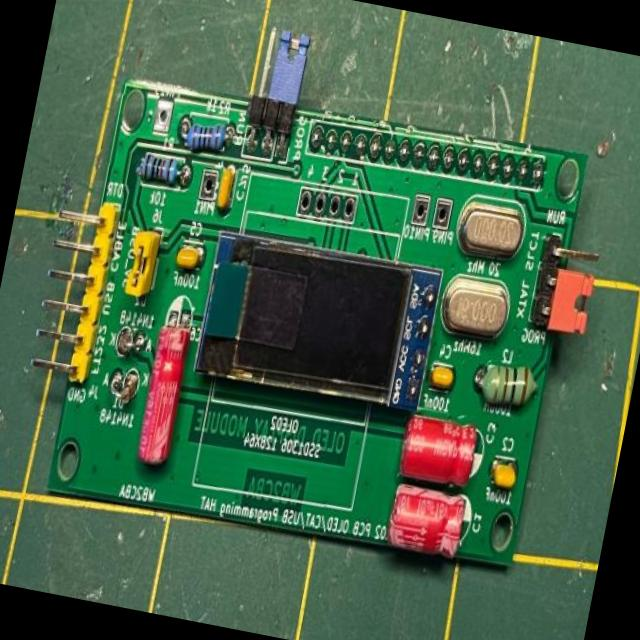capacitor: (132, 304, 198, 470), (383, 481, 469, 560), (394, 414, 484, 489), (216, 157, 240, 216), (486, 457, 522, 496), (173, 241, 205, 280), (429, 365, 454, 394)
connector: (25, 190, 121, 392), (522, 230, 605, 354), (242, 24, 316, 156), (123, 218, 164, 304)
resistor: (470, 354, 544, 420), (182, 111, 235, 168), (136, 148, 183, 188)
